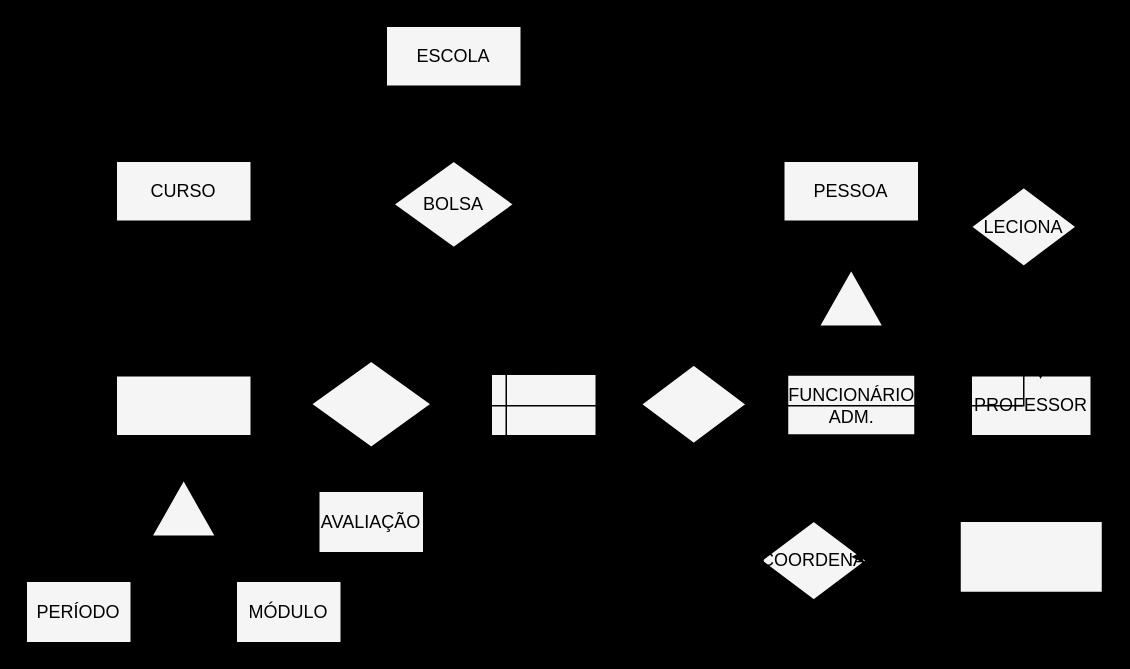
Image size: 1130x669. Some labels were removed from this diagram. Each missing label, with the centre of its shape:
ALUNO: the point at 543,404
COORDENADOR: the point at 1030,556
HISTÓRICO: the point at 370,403
PAGAR: the point at 693,403
TURMA: the point at 183,405
